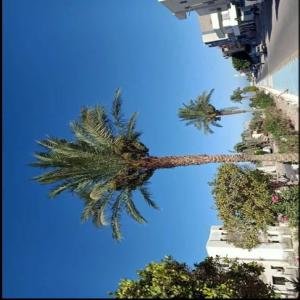palm tree: (26, 86, 298, 243)
